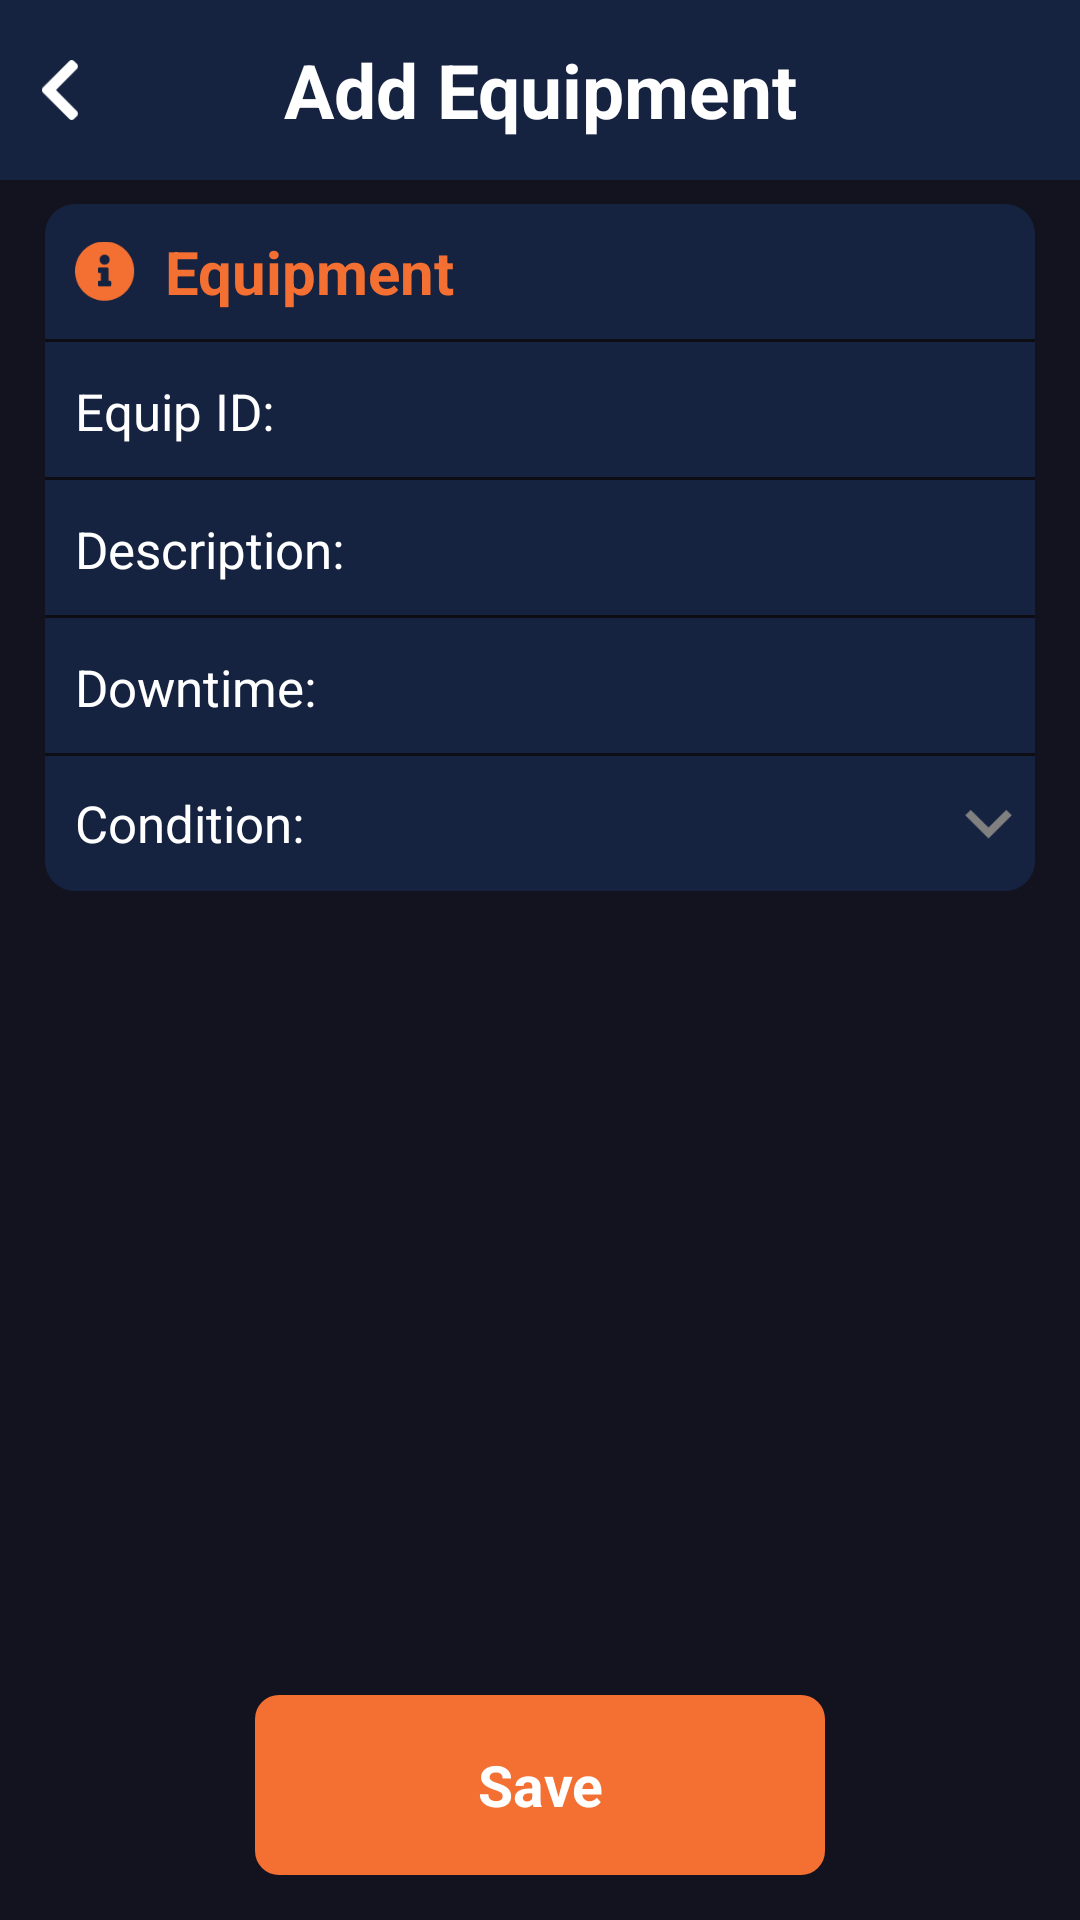

Point at icon controls on the screen. Image size 1080*1920, points as (x=x, y=y).
back: (x=60, y=90)
down arrow: (x=988, y=824)
info circle: (x=104, y=271)
